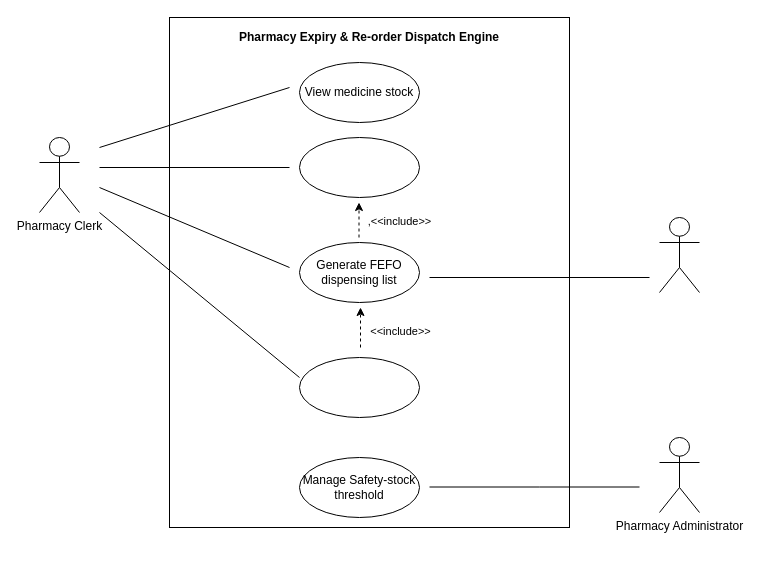
The diagram is 760 pixels wide and 566 high, and some of its shapes have lost their labels. The box of each missing label's shape, as (x1, y1, x2, y2) in pixels:
Dispense medicine: (298, 136, 420, 198)
Inventory Supplier: (658, 216, 700, 292)
Send Purchase Order (Automatic Re-order): (298, 356, 420, 418)
